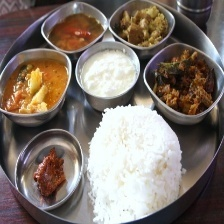sabzi: (146, 43, 220, 119)
